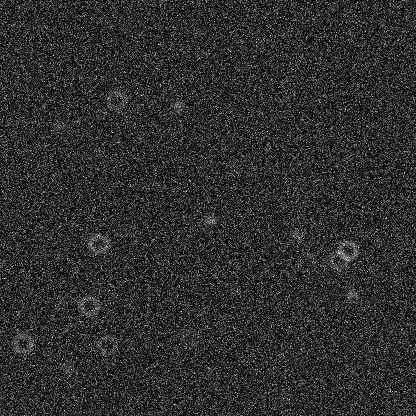Ring: (294, 250, 318, 274), (104, 87, 128, 111), (10, 330, 34, 354), (86, 231, 110, 255), (93, 284, 117, 308), (326, 247, 350, 271), (76, 293, 100, 317), (335, 238, 359, 262), (95, 332, 119, 356), (178, 326, 202, 350)
Spot: (288, 225, 304, 241), (202, 211, 218, 227), (228, 280, 244, 296), (169, 98, 185, 114), (343, 286, 359, 302), (50, 118, 66, 134), (59, 362, 75, 378), (142, 15, 158, 31)
